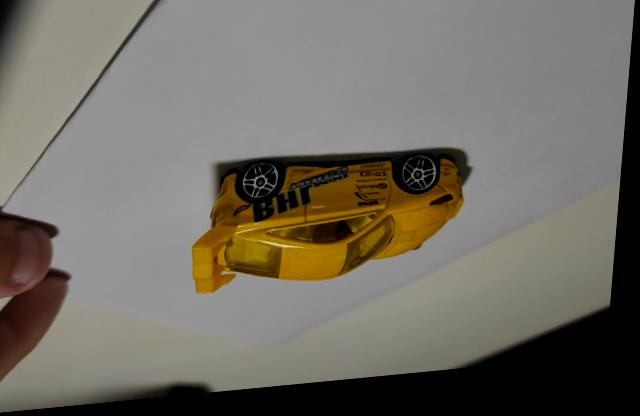07_RHLTURBO: (196, 159, 470, 299)
